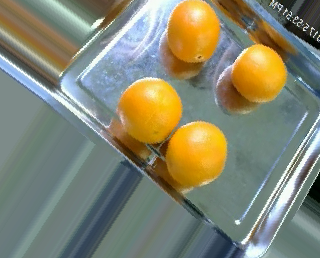Orange: (118, 76, 183, 143), (165, 120, 226, 185), (230, 43, 287, 104), (166, 1, 220, 62)
